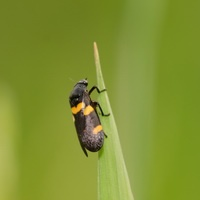insect: (69, 80, 103, 155)
